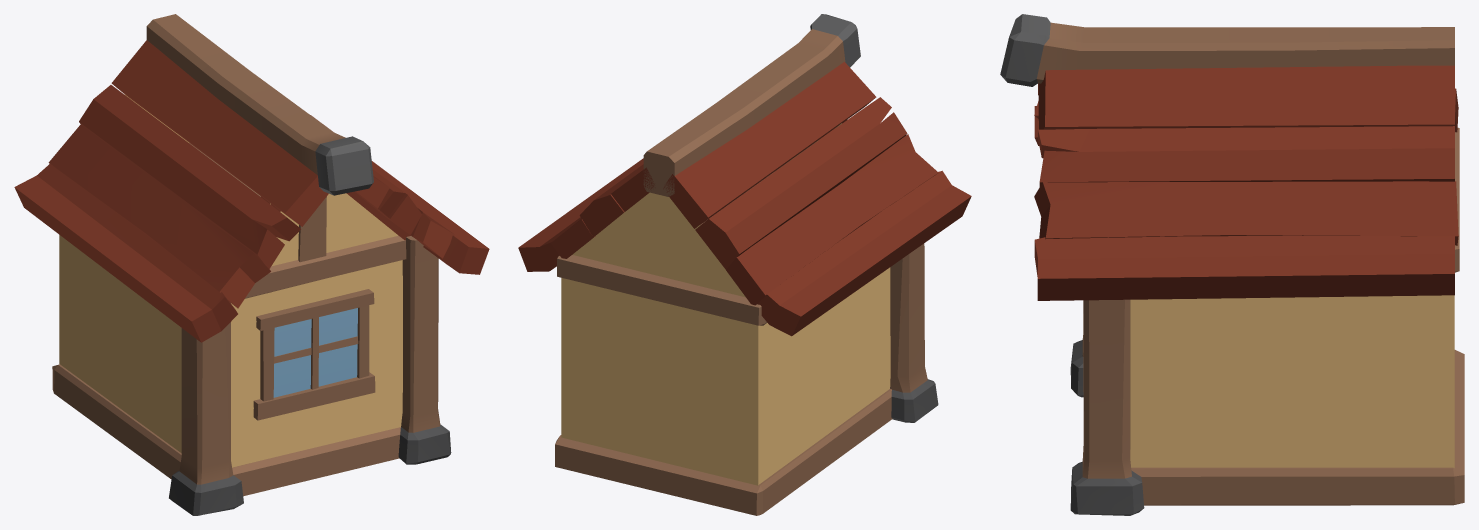
The model's file is House_1Floor_Side_G.fbx.
3 renders of one model, left to right at view 1: azimuth 30°, elevation 25°; view 2: azimuth 150°, elevation 25°; view 3: azimuth 270°, elevation 25°, orthographic. The views are drawn at different scales.
Visible parts, largest first — view 1: House_1Floor_Side_G; view 2: House_1Floor_Side_G; view 3: House_1Floor_Side_G.
Boxes of the visible parts, box(x1,y1,x2,y2) form: House_1Floor_Side_G: box(14, 14, 489, 515); House_1Floor_Side_G: box(518, 14, 971, 515); House_1Floor_Side_G: box(1000, 14, 1464, 515).
Size of the model in its own units: 249 by 288 by 287.
